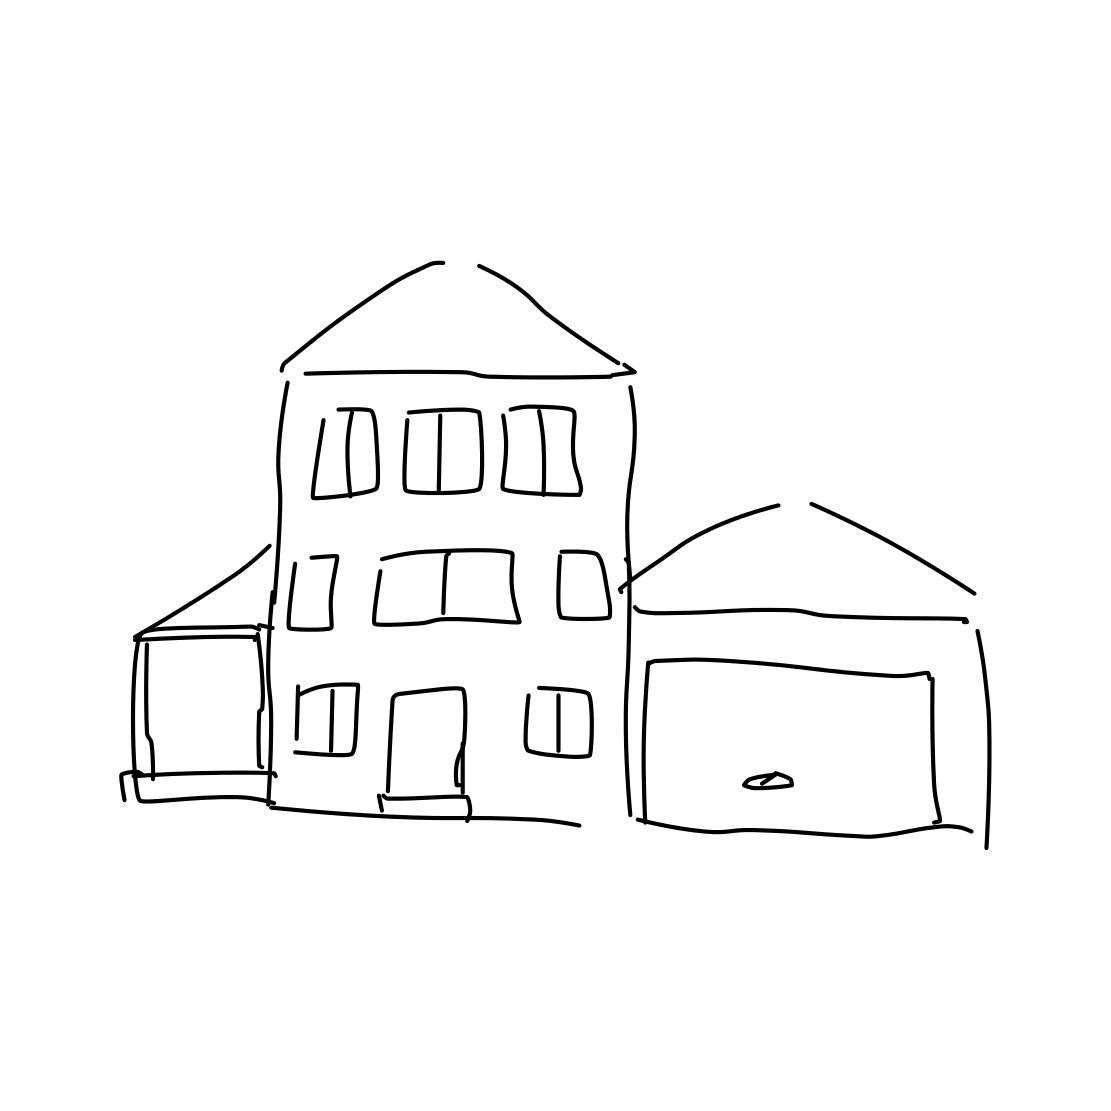door: (376, 684, 481, 840)
house: (113, 219, 1016, 850)
roof: (233, 227, 670, 397), (585, 468, 1025, 634), (113, 525, 288, 655)
wall: (267, 389, 630, 817), (629, 610, 990, 849)
window: (375, 538, 523, 633), (295, 399, 392, 517), (400, 395, 486, 502), (504, 399, 588, 504), (514, 668, 600, 765), (287, 671, 361, 767), (548, 545, 617, 627), (285, 548, 340, 633)
